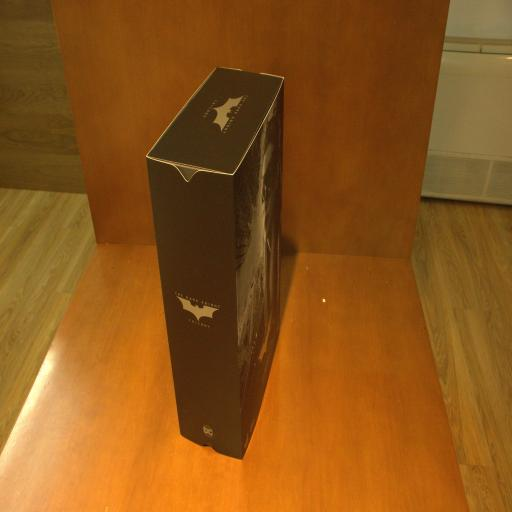catwoman: (146, 68, 284, 459)
